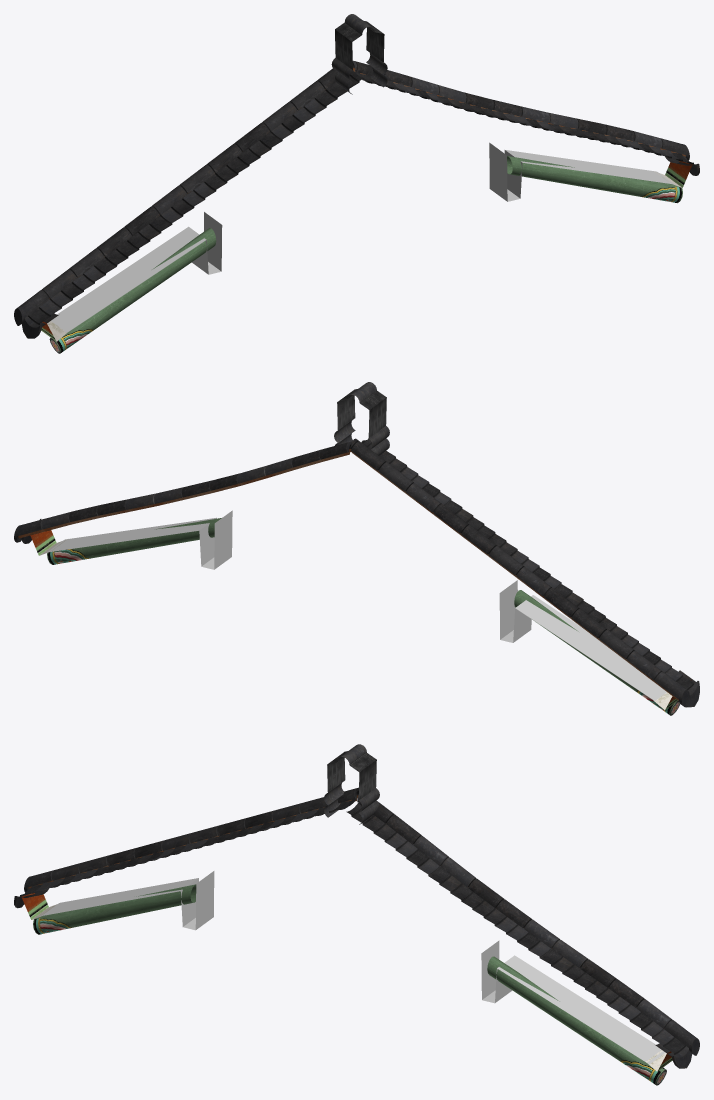
Rendered from SM_Giwa02B_a3_1.fbx.
3 views of the same model, one above another, from view 1: azimuth 30°, elevation 25°; view 2: azimuth 150°, elevation 25°; view 3: azimuth 330°, elevation 25° (orthographic).
Visible parts, largest first — view 1: SM_Giwa02B_a3_1; view 2: SM_Giwa02B_a3_1; view 3: SM_Giwa02B_a3_1.
Boxes of the visible parts, x1,y1,x2,y2 form: SM_Giwa02B_a3_1: (14,14,699,353); SM_Giwa02B_a3_1: (14,382,699,715); SM_Giwa02B_a3_1: (14,744,699,1085).
Bounding box in the file's own units: 668 × 38.25 × 243.
